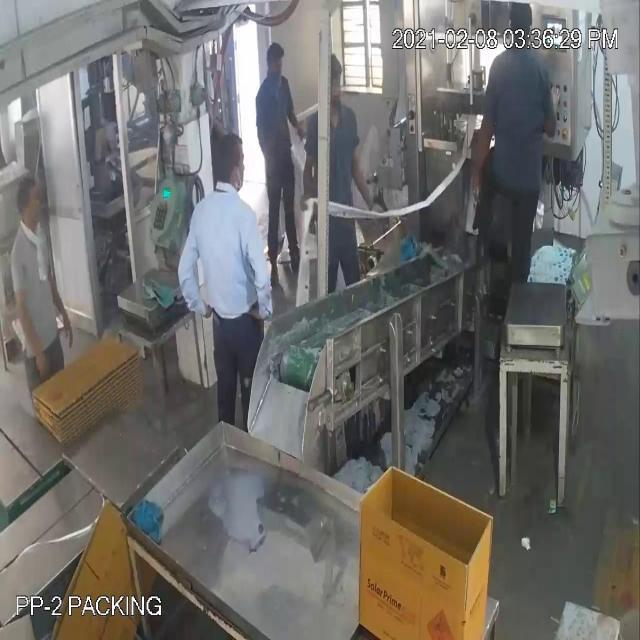No_Gloves: (26, 96, 484, 332)
